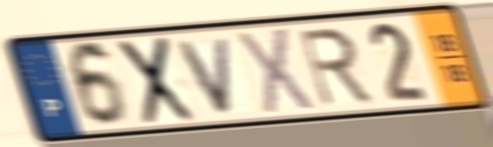2: (369, 20, 430, 103)
6: (63, 37, 132, 133)
R: (295, 25, 377, 111)
V: (175, 33, 238, 117)
X: (115, 33, 198, 128), (234, 24, 318, 117)
